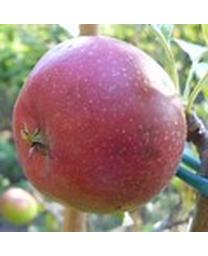apple: (13, 36, 187, 215)
